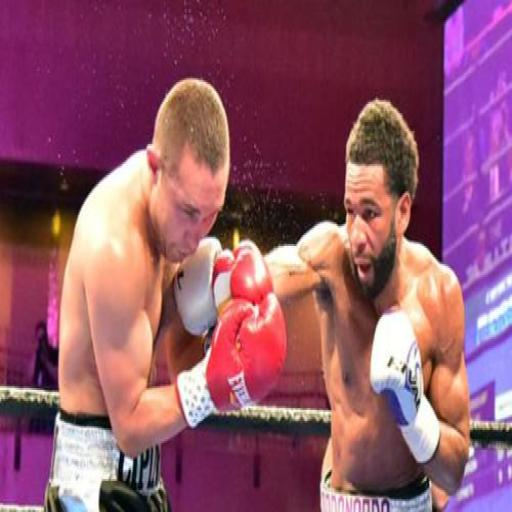boxing: (65, 50, 512, 512)
